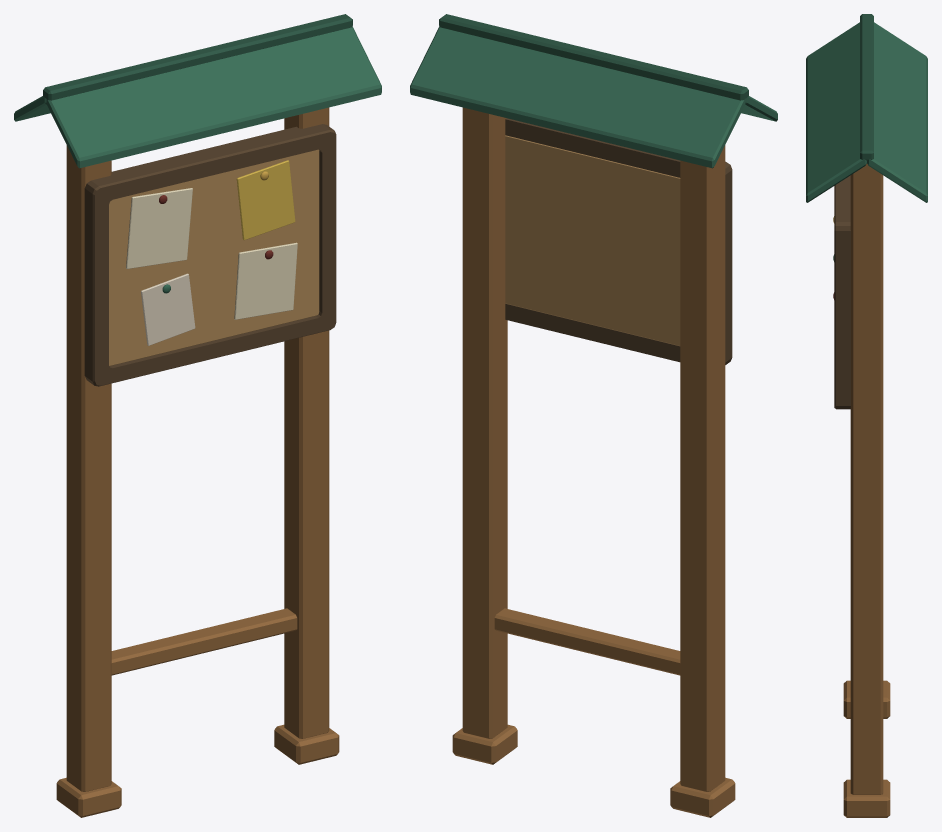
File: notice_board.glb
3 views of the same model, side by side, from view 1: azimuth 30°, elevation 25°; view 2: azimuth 150°, elevation 25°; view 3: azimuth 270°, elevation 25° (orthographic). The views are drawn at different scales.
Parts seen in each view (by area): view 1: notice_board; view 2: notice_board; view 3: notice_board.
Part boxes in pixels (bbox=[...]): notice_board: bbox=[14, 14, 381, 817]; notice_board: bbox=[410, 14, 777, 817]; notice_board: bbox=[806, 14, 927, 817].
Size of the model in its own units: 0.7 by 1.6 by 0.26.
